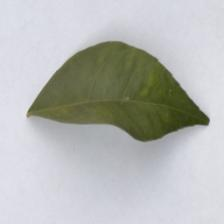healthy: (28, 38, 210, 144)
